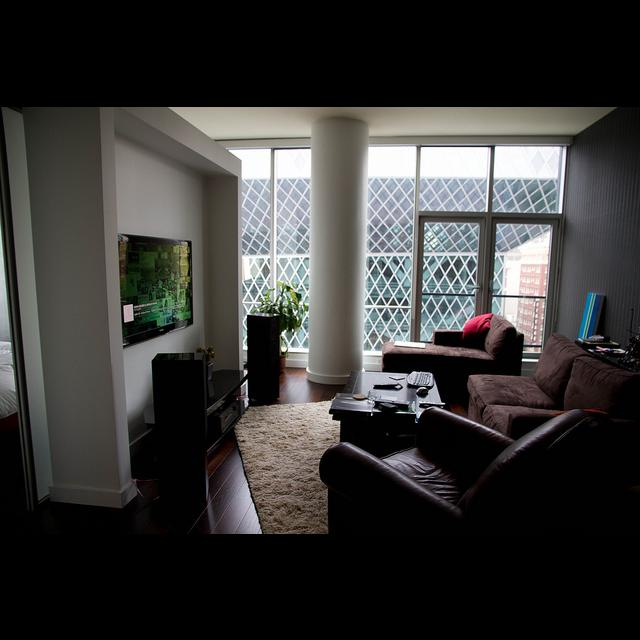Computer-Keyboard: (405, 369, 434, 386)
Flat-Panel-TV: (120, 234, 194, 347)
TV-Remote-Control: (373, 381, 398, 385)
